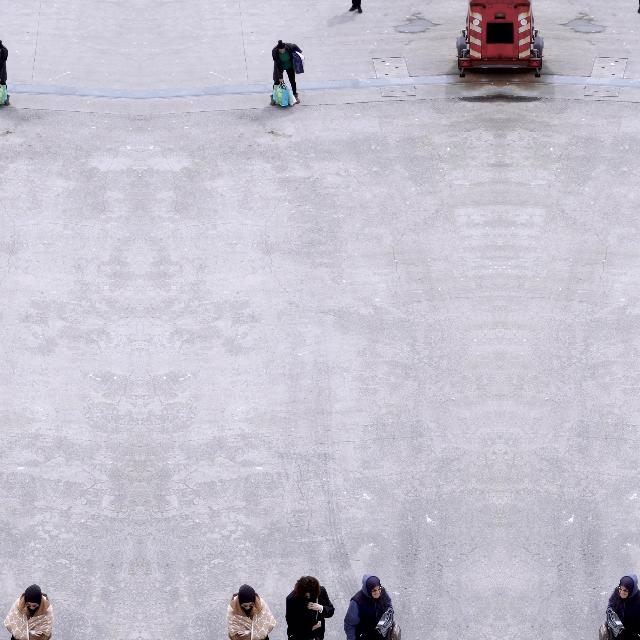person: (344, 574, 394, 640), (285, 576, 335, 640), (226, 584, 276, 640), (4, 584, 54, 640), (605, 574, 640, 640), (270, 40, 304, 106), (0, 40, 10, 106), (349, 0, 363, 14), (637, 0, 640, 14)
